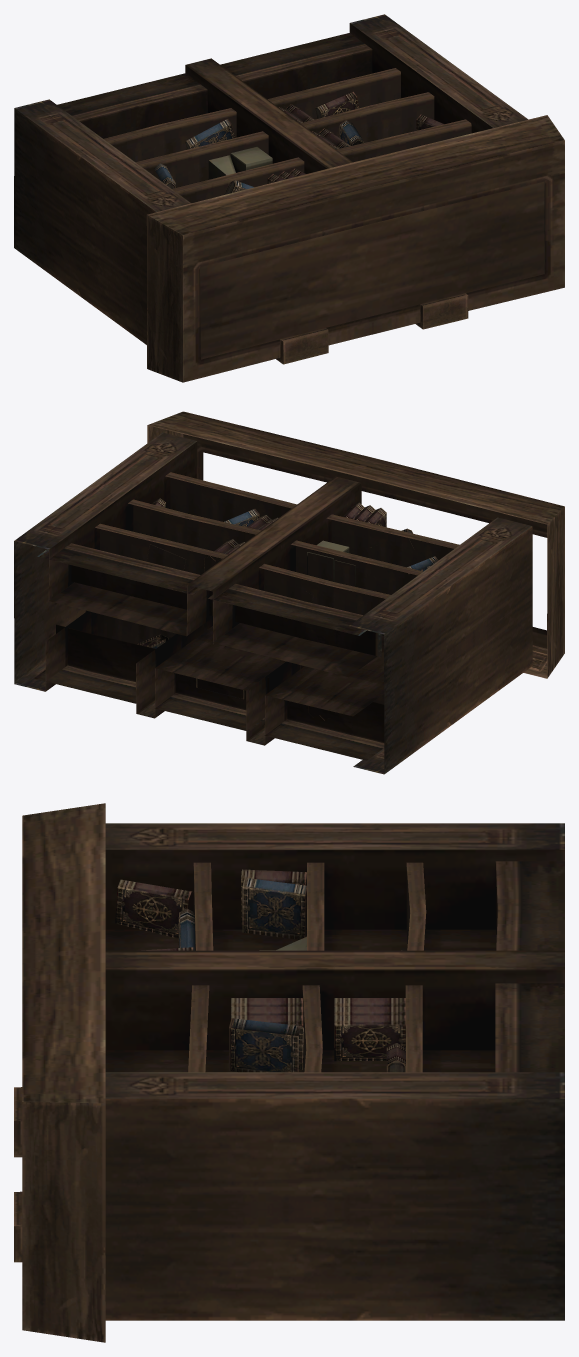
Rendered from tanxian_fuben_257_shugui_05.obj.
3 views of the same model, one above another, from view 1: azimuth 30°, elevation 25°; view 2: azimuth 150°, elevation 25°; view 3: azimuth 270°, elevation 25° (orthographic). The views are drawn at different scales.
Parts seen in each view (by area): view 1: tanxian_fuben_257_shugui_05; view 2: tanxian_fuben_257_shugui_05; view 3: tanxian_fuben_257_shugui_05.
Part boxes in pixels (box(x1,y1,x2,y2)): tanxian_fuben_257_shugui_05: box(14, 14, 564, 382); tanxian_fuben_257_shugui_05: box(14, 411, 564, 774); tanxian_fuben_257_shugui_05: box(14, 803, 564, 1342).
Size of the model in its own units: 276 by 103 by 212.
Materials: 2 (2 with a texture image).
